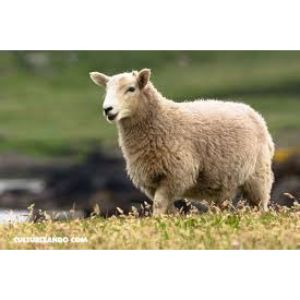sheep: (86, 68, 275, 219)
